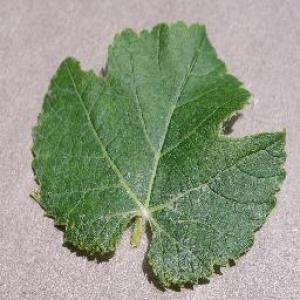Folha: (28, 19, 287, 290)
